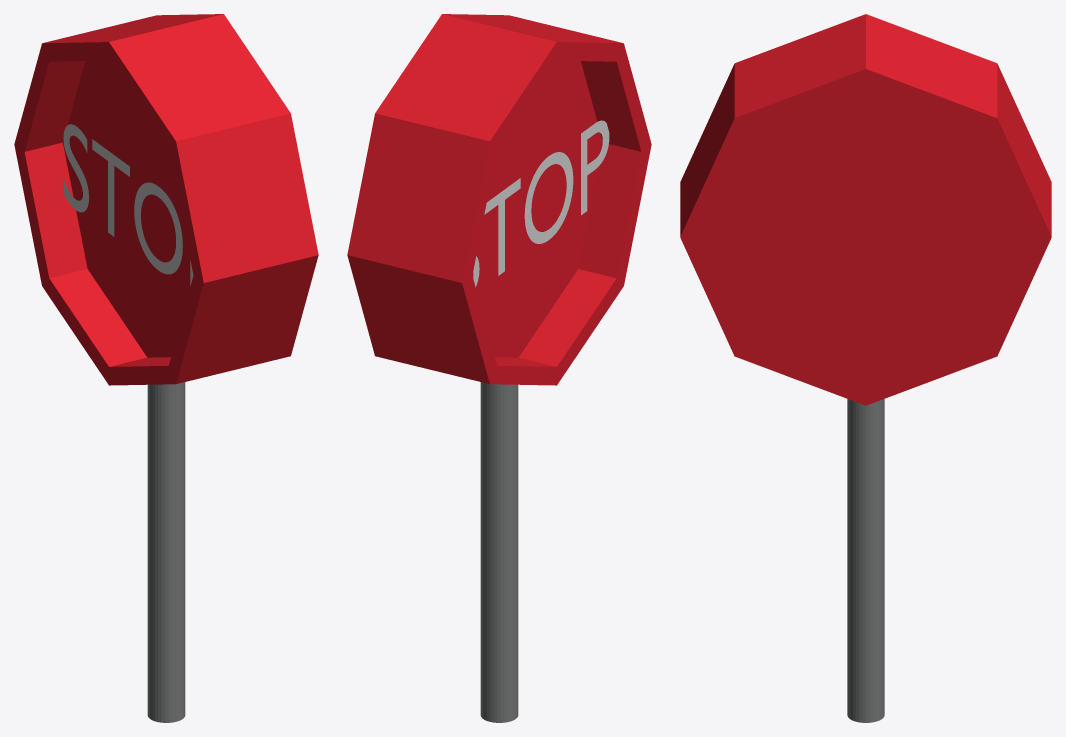
File: StopSign.fbx
The picture shows the model from 3 angles, left to right: view 1: azimuth 30°, elevation 25°; view 2: azimuth 150°, elevation 25°; view 3: azimuth 270°, elevation 25°; orthographic projection.
Visible parts, largest first — view 1: Cylinder.001, Cylinder, Text; view 2: Cylinder.001, Cylinder, Text; view 3: Cylinder.001, Cylinder.
Part boxes in pixels (x1,y1,x2,y2): Cylinder.001: (14, 14, 318, 385); Cylinder: (147, 382, 185, 722); Text: (63, 124, 193, 286); Cylinder.001: (347, 14, 651, 385); Cylinder: (480, 382, 518, 722); Text: (473, 120, 609, 287); Cylinder.001: (680, 14, 1051, 405); Cylinder: (847, 399, 884, 722).
Size of the model in its own units: 7 by 40 by 20.
